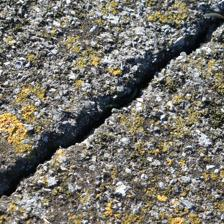Crack: (4, 11, 214, 186)
